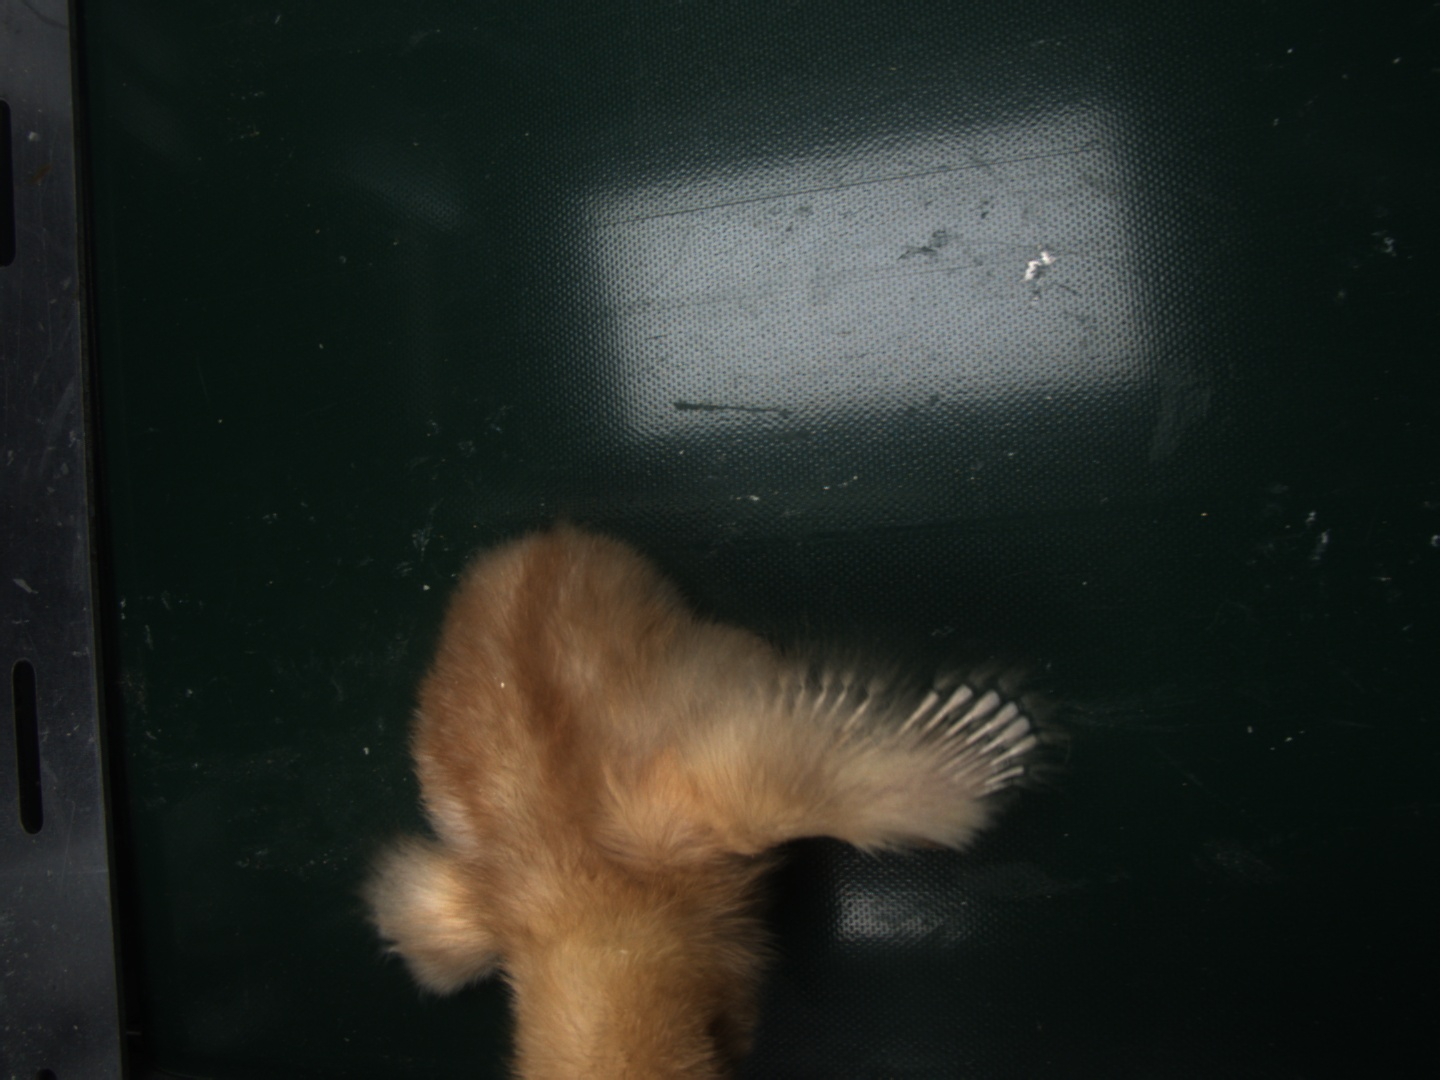female: (904, 685, 1037, 798)
